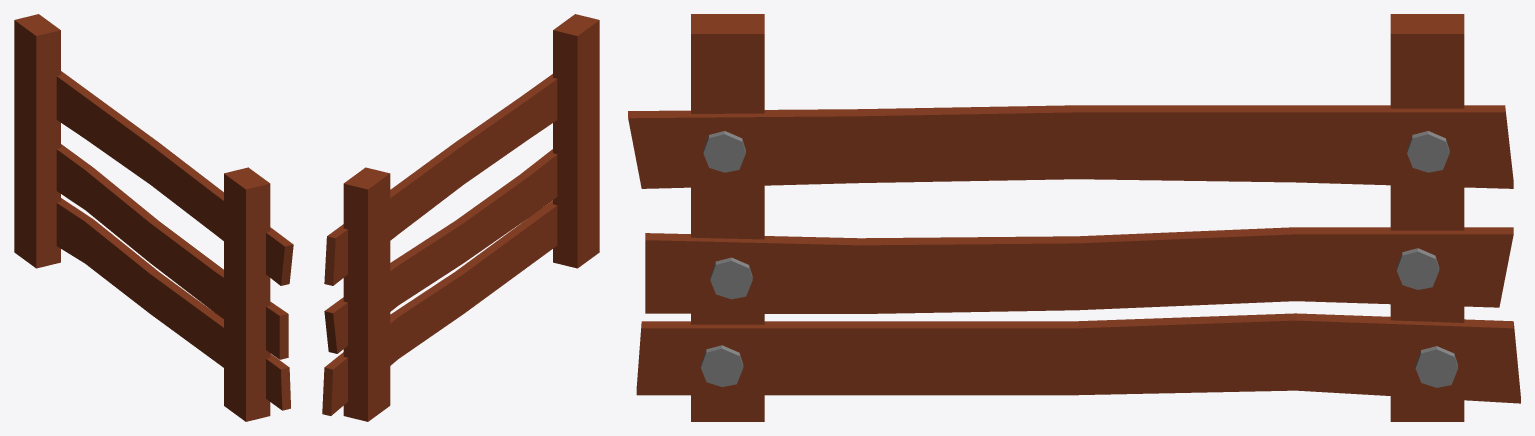
Rendered from Fence.fbx.
3 views of the same model, side by side, from view 1: azimuth 30°, elevation 25°; view 2: azimuth 150°, elevation 25°; view 3: azimuth 270°, elevation 25° (orthographic). The views are drawn at different scales.
Parts seen in each view (by area): view 1: Fence; view 2: Fence; view 3: Fence.
Part boxes in pixels (<box>): Fence: <box>14,14,293,421</box>; Fence: <box>322,14,599,421</box>; Fence: <box>628,14,1520,421</box>.
Size of the model in its own units: 146 by 979 by 2041.
